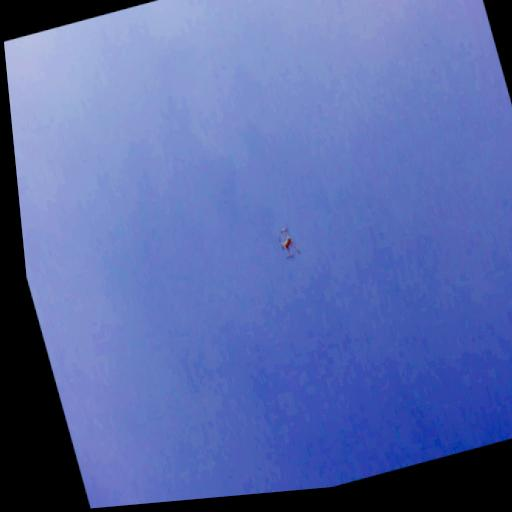drones: (273, 220, 304, 266)
